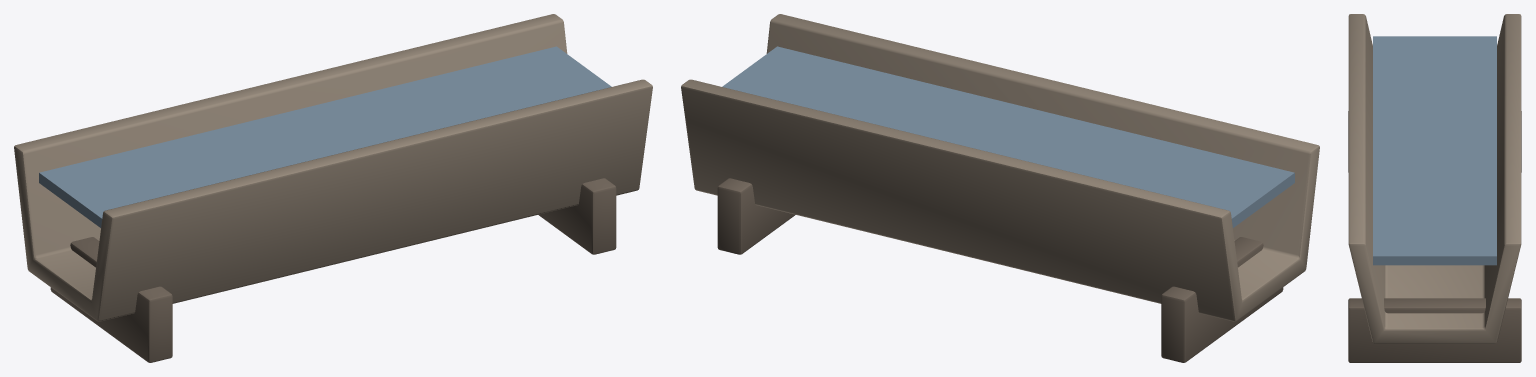
File: trough.gltf
3 views of the same model, side by side, from view 1: azimuth 30°, elevation 25°; view 2: azimuth 150°, elevation 25°; view 3: azimuth 270°, elevation 25° (orthographic). The views are drawn at different scales.
Parts seen in each view (by area): view 1: Body; view 2: Body; view 3: Body.
Boxes of the visible parts, x1,y1,x2,y2 form: Body: (14, 14, 652, 362); Body: (681, 14, 1319, 362); Body: (1348, 14, 1521, 362).
Size of the model in its own units: 2.2 by 0.605 by 0.7.
